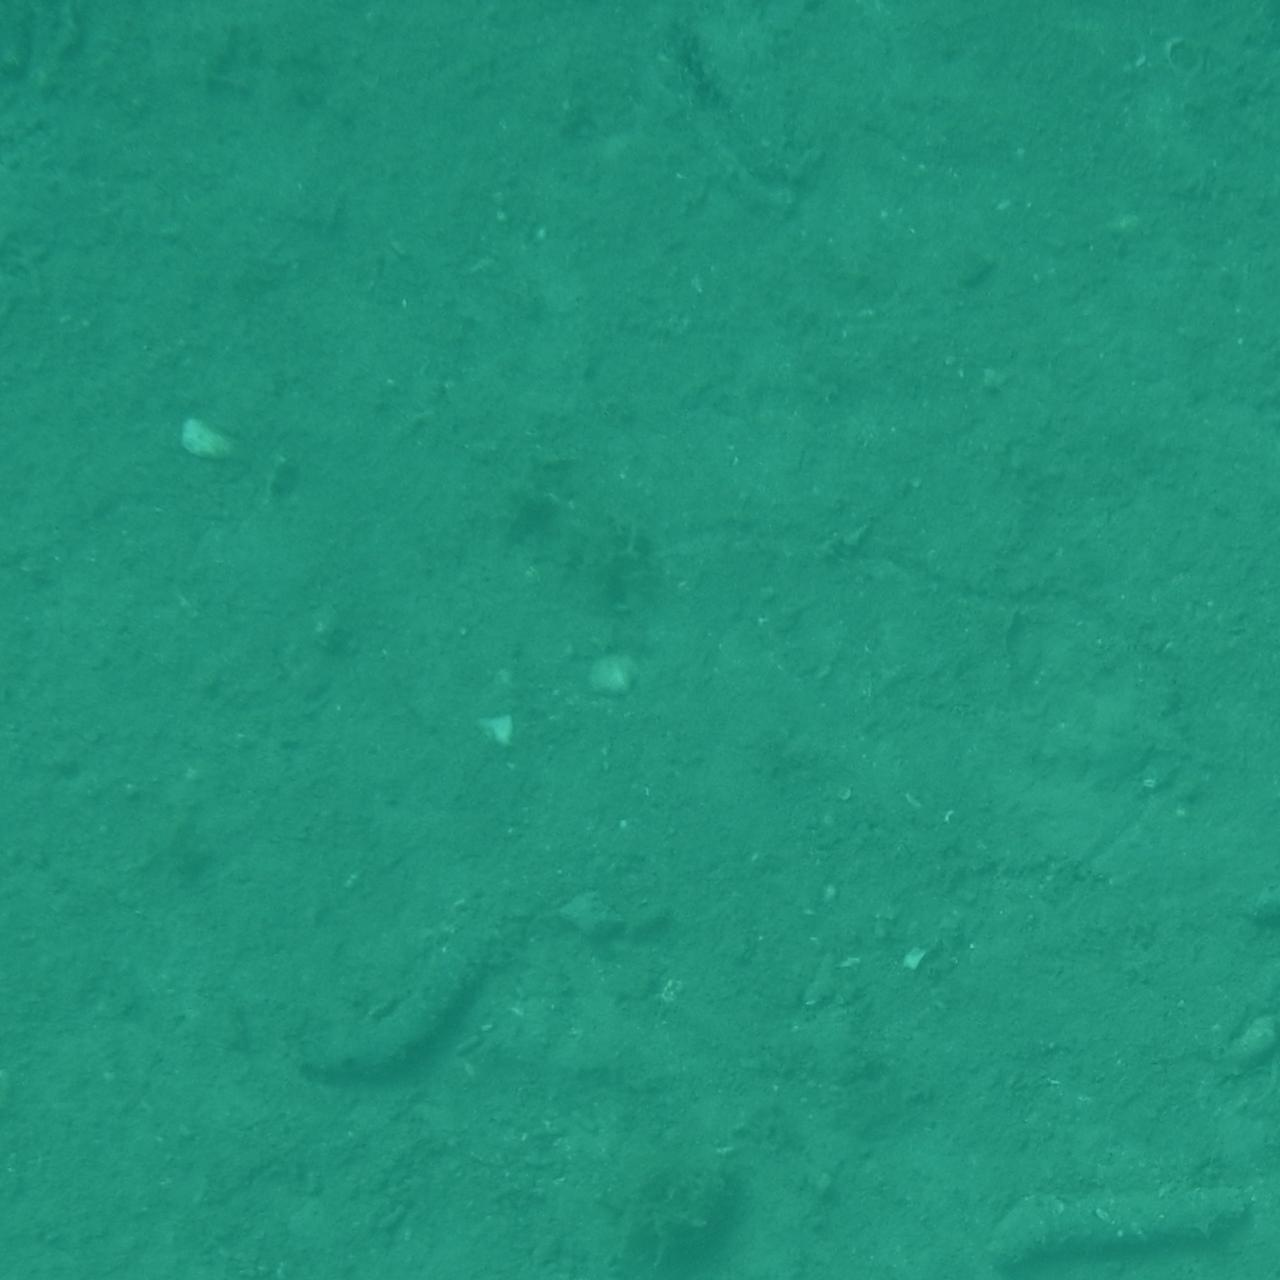Holothuria tubulosa: (300, 900, 570, 1098), (985, 1157, 1273, 1280), (0, 530, 186, 633), (1198, 869, 1280, 1073), (0, 0, 73, 150), (1212, 1150, 1280, 1280)
